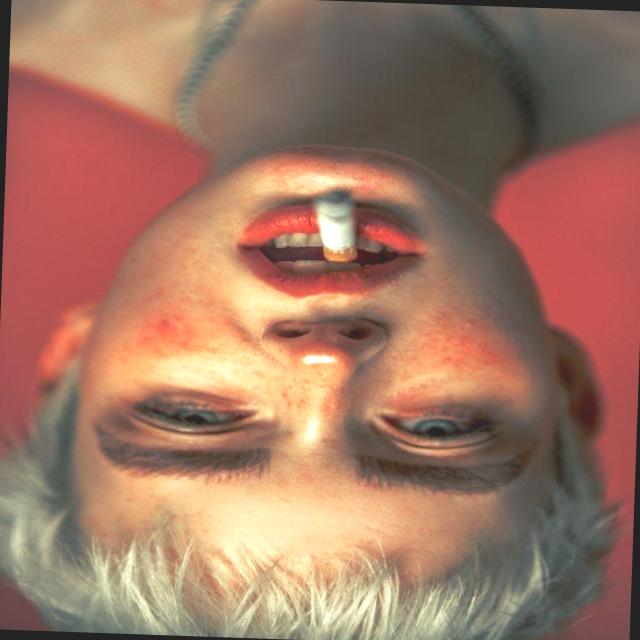smoke: (302, 184, 376, 275)
